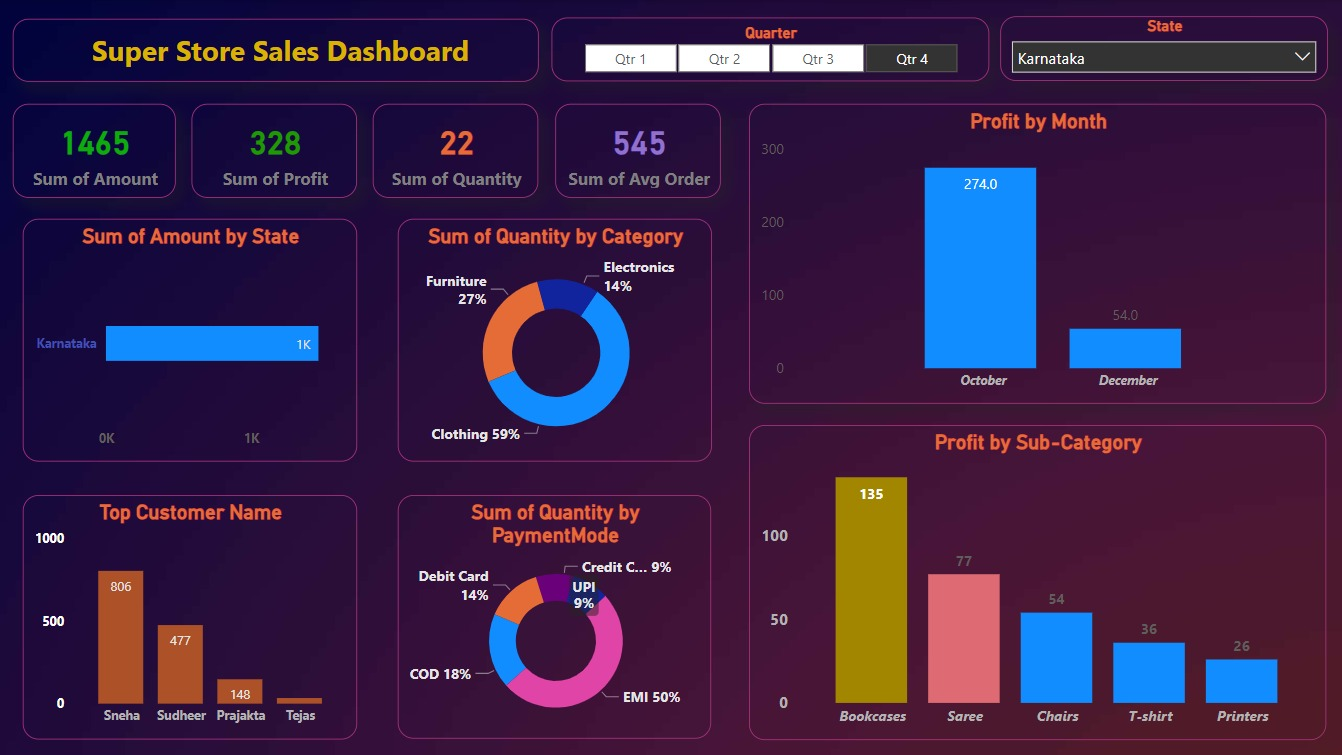

The dashboard page shown, as its layout file describes it:
{"tool":"powerbi","page":{"name":"Page 1","canvas":[1280,720],"ordinal":0},"visuals":[{"type":"textbox","box":[13.5,17.4,500.9,60.4],"z":0,"group":"g1"},{"type":"columnChart","title":"Profit by Month","fields":{"Category":["Orders.Order Date.Variation.Date Hierarchy.Month"],"Y":["Sum(Details.Profit)"]},"box":[714,98.8,549.8,285.6],"z":1000,"group":"g1"},{"type":"columnChart","title":"Profit by Sub-Category","fields":{"Category":["Details.Sub-Category"],"Y":["Sum(Details.Profit)"]},"box":[714,404.1,549.5,300.4],"z":2000,"group":"g1"},{"type":"donutChart","fields":{"Category":["Details.Category"],"Y":["Sum(Details.Quantity)"]},"box":[379.1,208.6,299.2,231.3],"z":3000,"group":"g1"},{"type":"donutChart","fields":{"Y":["Sum(Details.Quantity)"],"Category":["Details.PaymentMode"]},"box":[379.6,471.3,298.7,232.1],"z":4000,"group":"g1"},{"type":"card","fields":{"Values":["Sum(Details.Amount)"]},"box":[13.1,98.9,155,89.4],"z":5000,"group":"g1"},{"type":"card","fields":{"Values":["Sum(Details.Profit)"]},"box":[183.6,98.9,157.3,89.4],"z":6000,"group":"g1"},{"type":"card","fields":{"Values":["Sum(Details.Quantity)"]},"box":[356.4,98.9,157.3,89.4],"z":7000,"group":"g1"},{"type":"card","fields":{"Values":["Sum(Details.Avg Order)"]},"box":[529.2,98.9,157.3,89.4],"z":8000,"group":"g1"},{"type":"clusteredBarChart","fields":{"Category":["Orders.State"],"Y":["Sum(Details.Amount)"]},"box":[22.6,208.6,318.3,231.3],"z":9000,"group":"g1"},{"type":"columnChart","title":"Top Customer Name","fields":{"Category":["Orders.CustomerName"],"Y":["Sum(Details.Amount)"]},"box":[22.6,470.9,318.3,232.4],"z":10000,"group":"g1"},{"type":"slicer","title":"Quarter","fields":{"Values":["Orders.Order Date.Variation.Date Hierarchy.Quarter"]},"box":[525.6,17.1,416.5,60.7],"z":11000,"group":"g1"},{"type":"slicer","title":"State","fields":{"Values":["Orders.State"]},"box":[953.4,15.5,311.8,61.9],"z":13000,"group":"g1"},{"type":"group","id":"g1","title":"Group 1","box":[13.1,15.5,1252,689.1],"z":13001}]}

Visuals, with their boxes in screenshot pixels (x1, y1, x2, y2), scaled from the page's 1280x720 canvas onto the 1342x755 screenshot:
textbox: 14 18 539 82
"Profit by Month" columnChart: 749 104 1325 403
"Profit by Sub-Category" columnChart: 749 424 1325 739
donutChart - Details.Category x Sum(Details.Quantity): 397 219 711 461
donutChart - Sum(Details.Quantity) x Details.PaymentMode: 398 494 711 738
card - Sum(Details.Amount): 14 104 176 197
card - Sum(Details.Profit): 192 104 357 197
card - Sum(Details.Quantity): 374 104 539 197
card - Sum(Details.Avg Order): 555 104 720 197
clusteredBarChart - Orders.State x Sum(Details.Amount): 24 219 357 461
"Top Customer Name" columnChart: 24 494 357 737
"Quarter" slicer: 551 18 988 82
"State" slicer: 1000 16 1326 81
"Group 1" group: 14 16 1326 739
